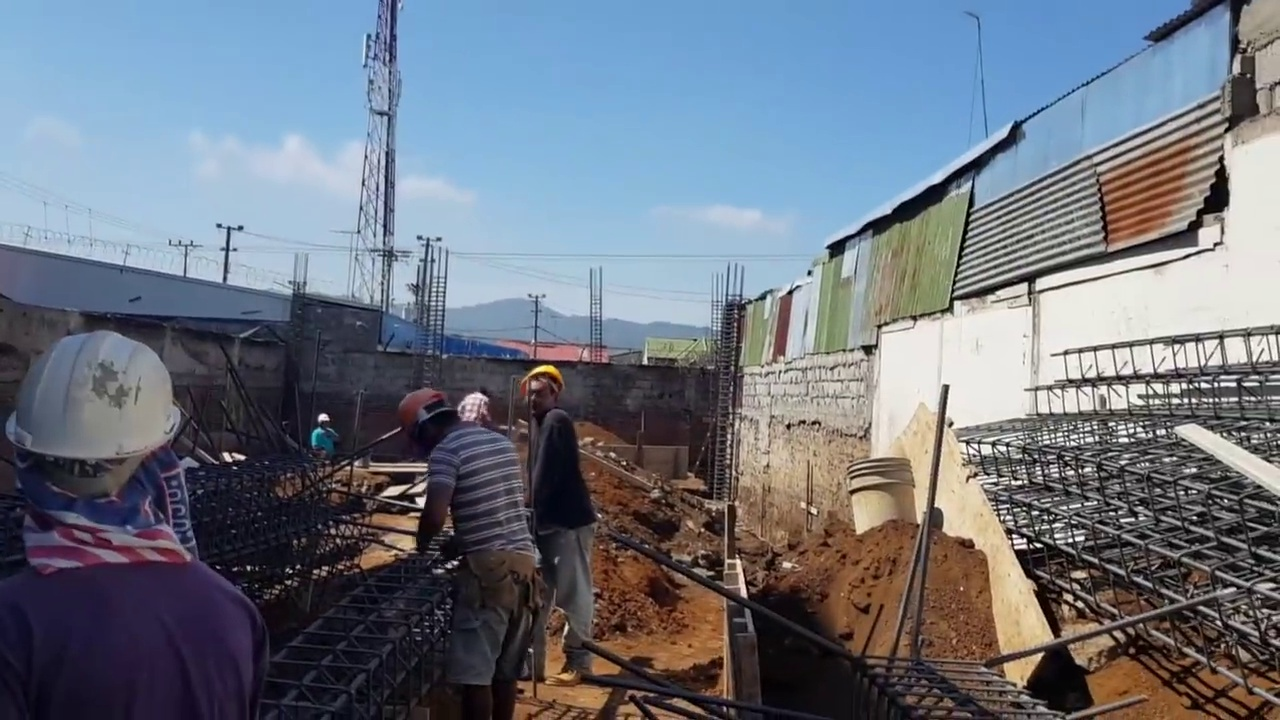helmet: (16, 329, 178, 469), (397, 389, 453, 445), (520, 365, 565, 395), (317, 413, 330, 426)
helmet-off: (474, 386, 488, 397)
helmet-on: (7, 324, 178, 551), (395, 389, 470, 453), (520, 366, 565, 420), (317, 411, 331, 434)
person: (0, 330, 253, 711), (395, 389, 530, 720), (520, 369, 601, 685), (457, 385, 495, 427), (311, 411, 339, 457)
